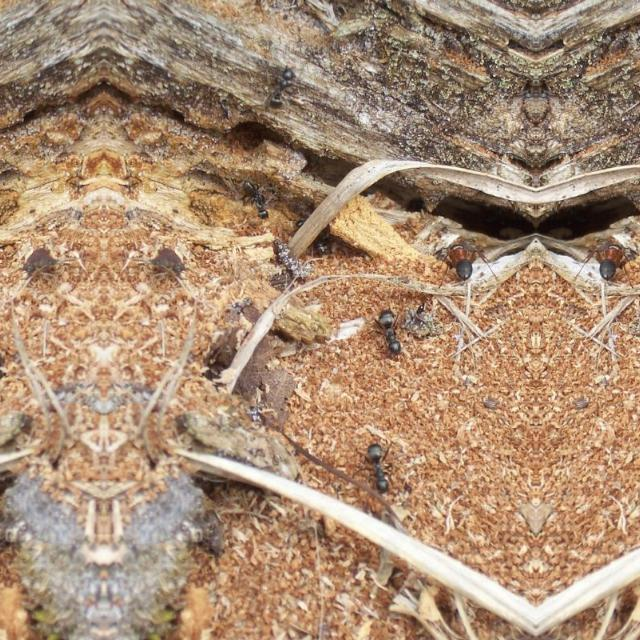Formica: (354, 297, 422, 377), (355, 432, 405, 510), (250, 48, 306, 114), (432, 232, 498, 282), (573, 232, 639, 282), (238, 170, 280, 218)
